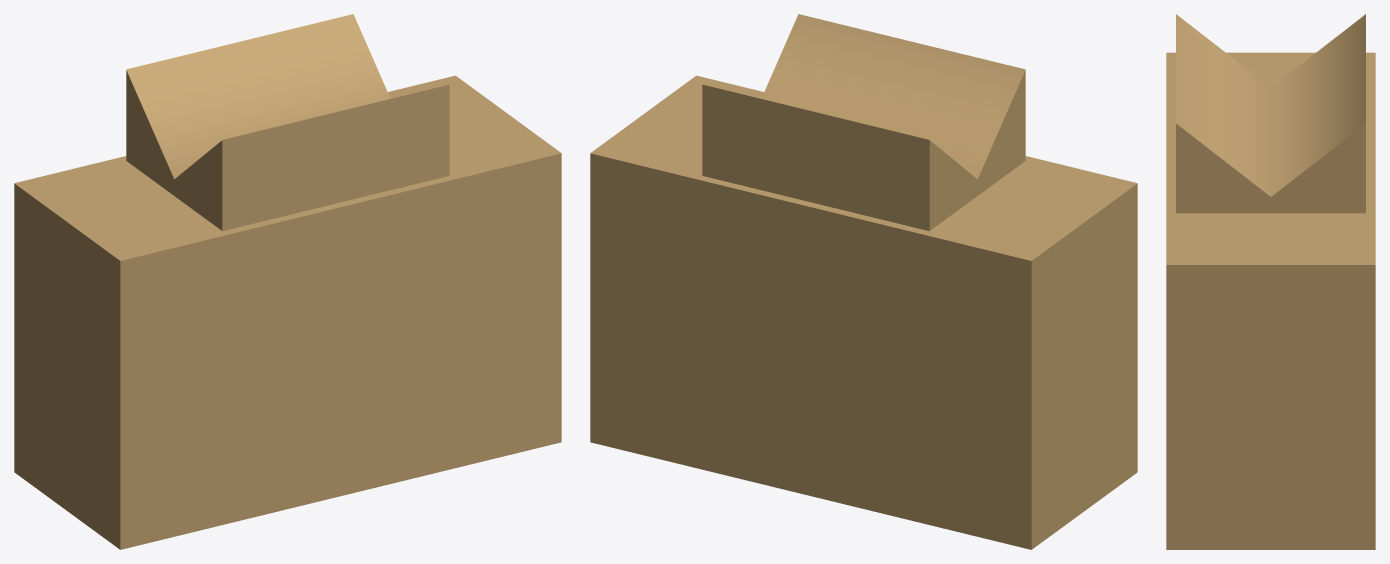
File: sm_Handbag.fbx
3 renders of one model, left to right at view 1: azimuth 30°, elevation 25°; view 2: azimuth 150°, elevation 25°; view 3: azimuth 270°, elevation 25°, orthographic.
Visible parts, largest first — view 1: sm_Handbag; view 2: sm_Handbag; view 3: sm_Handbag.
Part boxes in pixels (box(x1,y1,x2,y2)): sm_Handbag: box(14, 14, 561, 549); sm_Handbag: box(590, 14, 1137, 549); sm_Handbag: box(1166, 14, 1375, 549).
Size of the model in its own units: 0.821 by 0.6759 by 0.3423.
